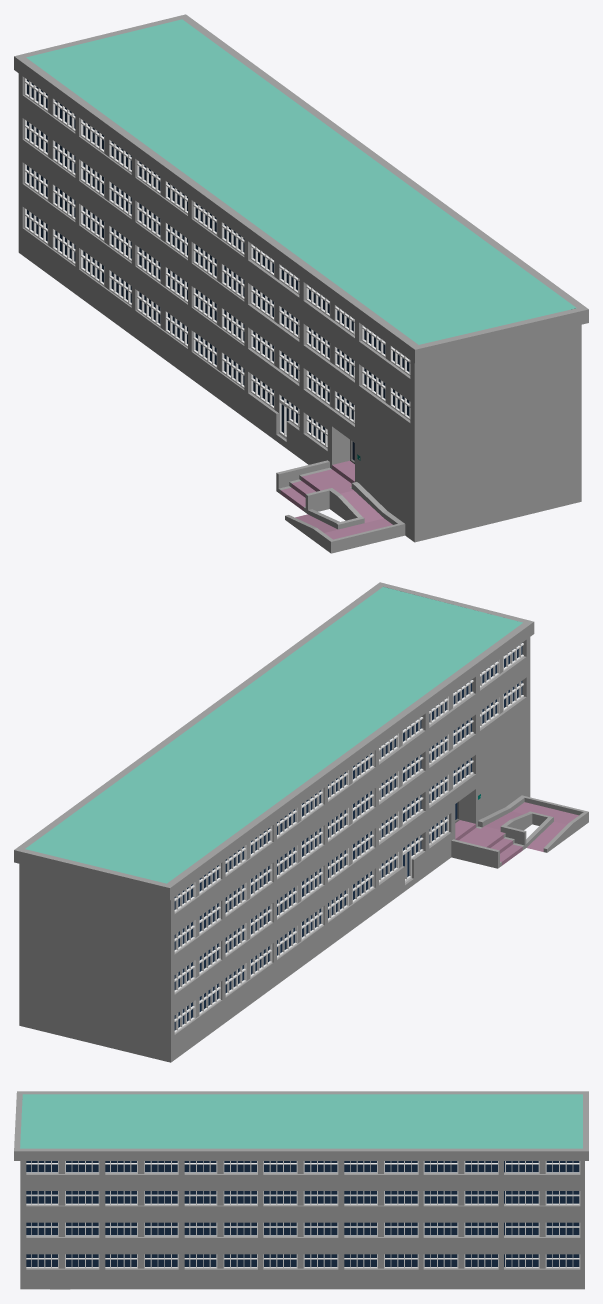
Rendered from Building_I.fbx.
The picture shows the model from 3 angles, top to bottom: view 1: azimuth 30°, elevation 25°; view 2: azimuth 150°, elevation 25°; view 3: azimuth 270°, elevation 25°; orthographic projection. The views are drawn at different scales.
Visible parts, largest first — view 1: Building_I; view 2: Building_I; view 3: Building_I.
Boxes of the visible parts, x1=… form: Building_I: x1=14, y1=14, x2=588, y2=553; Building_I: x1=14, y1=582, x2=588, y2=1062; Building_I: x1=14, y1=1091, x2=588, y2=1289.
Size of the model in its own units: 18.03 by 13.78 by 51.56.
